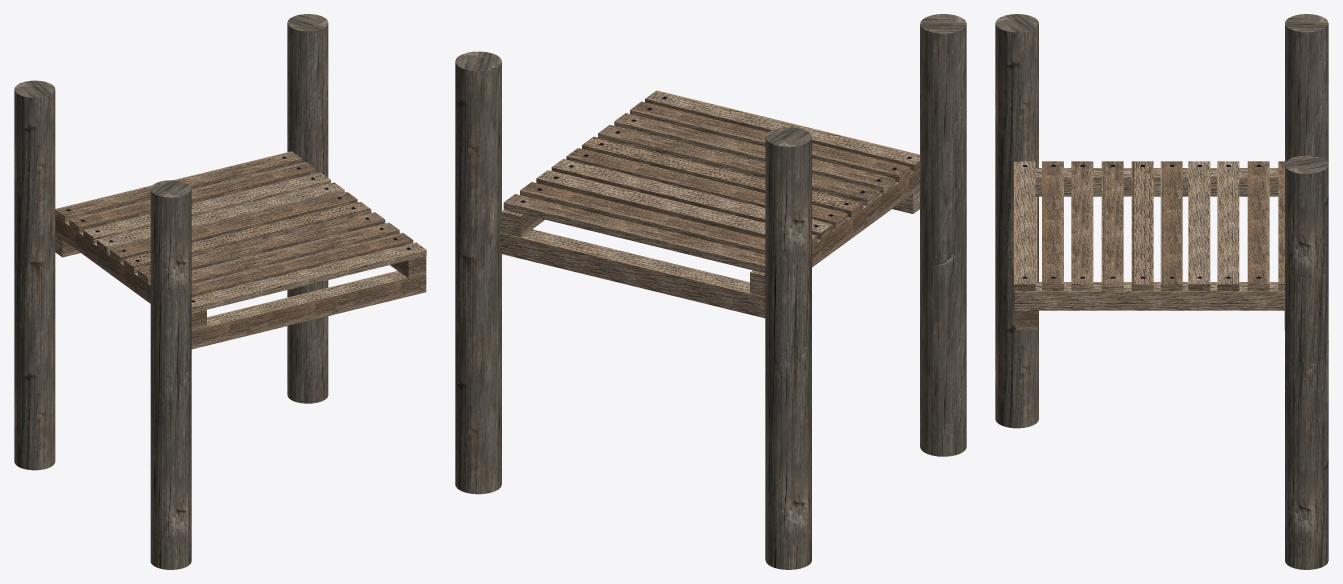
Rendered from Plataforma madera 4to C(mio).fbx.
3 views of the same model, side by side, from view 1: azimuth 30°, elevation 25°; view 2: azimuth 150°, elevation 25°; view 3: azimuth 270°, elevation 25° (orthographic). The views are drawn at different scales.
Visible parts, largest first — view 1: pisoMaderas4x4, SoportePiso, poste, viga; view 2: SoportePiso, pisoMaderas4x4, poste; view 3: pisoMaderas4x4, SoportePiso, poste, viga.
Part boxes in pixels (x1=…): pisoMaderas4x4: x1=55, y1=151, x2=426, y2=331; SoportePiso: x1=14, y1=14, x2=328, y2=470; poste: x1=150, y1=180, x2=191, y2=569; viga: x1=191, y1=270, x2=426, y2=349; SoportePiso: x1=455, y1=51, x2=811, y2=569; pisoMaderas4x4: x1=500, y1=90, x2=919, y2=296; poste: x1=920, y1=14, x2=966, y2=456; pisoMaderas4x4: x1=1014, y1=161, x2=1286, y2=310; SoportePiso: x1=1284, y1=14, x2=1328, y2=569; poste: x1=995, y1=14, x2=1038, y2=428; viga: x1=1015, y1=196, x2=1037, y2=330.
Size of the model in its own units: 520 by 600 by 458.
3 materials, 2 textured.
